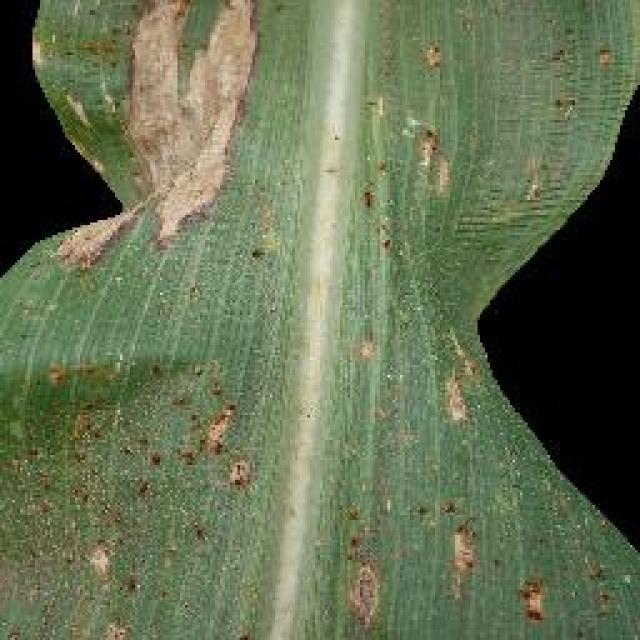Corn Common Rust: (44, 163, 568, 625)
